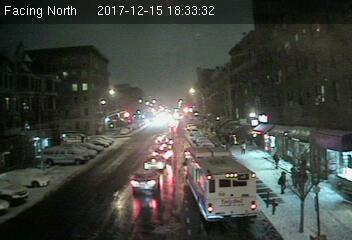bus: (182, 146, 259, 221)
car: (130, 170, 161, 192), (144, 155, 166, 170), (153, 146, 171, 160)
pedestrian: (279, 170, 288, 195)
